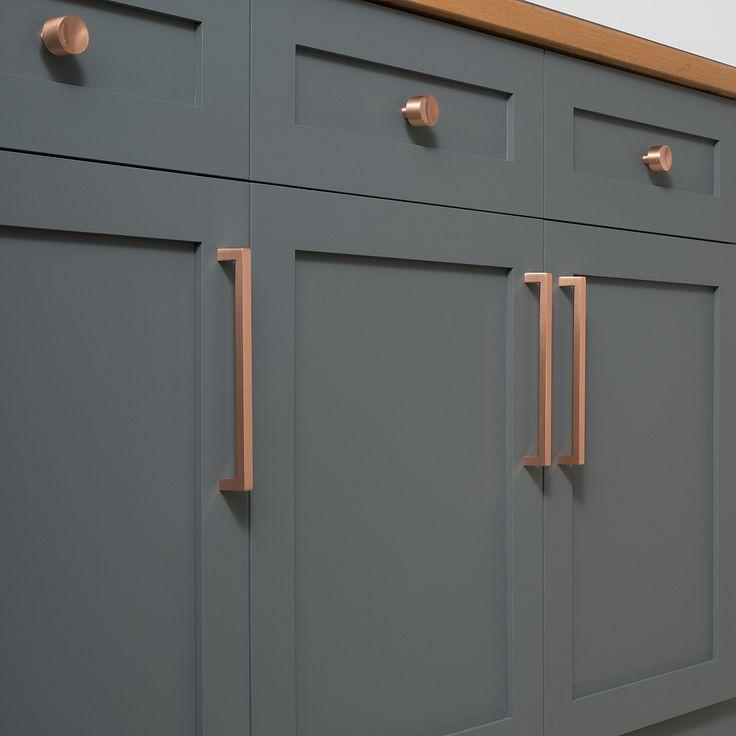cabinet_door: (253, 192, 552, 736), (1, 141, 251, 736), (549, 236, 736, 724), (250, 2, 546, 210), (0, 5, 249, 172), (545, 53, 736, 237)
handle: (218, 243, 262, 503), (554, 271, 590, 474), (524, 264, 556, 478), (35, 12, 96, 69), (399, 87, 442, 133), (639, 133, 676, 183)
